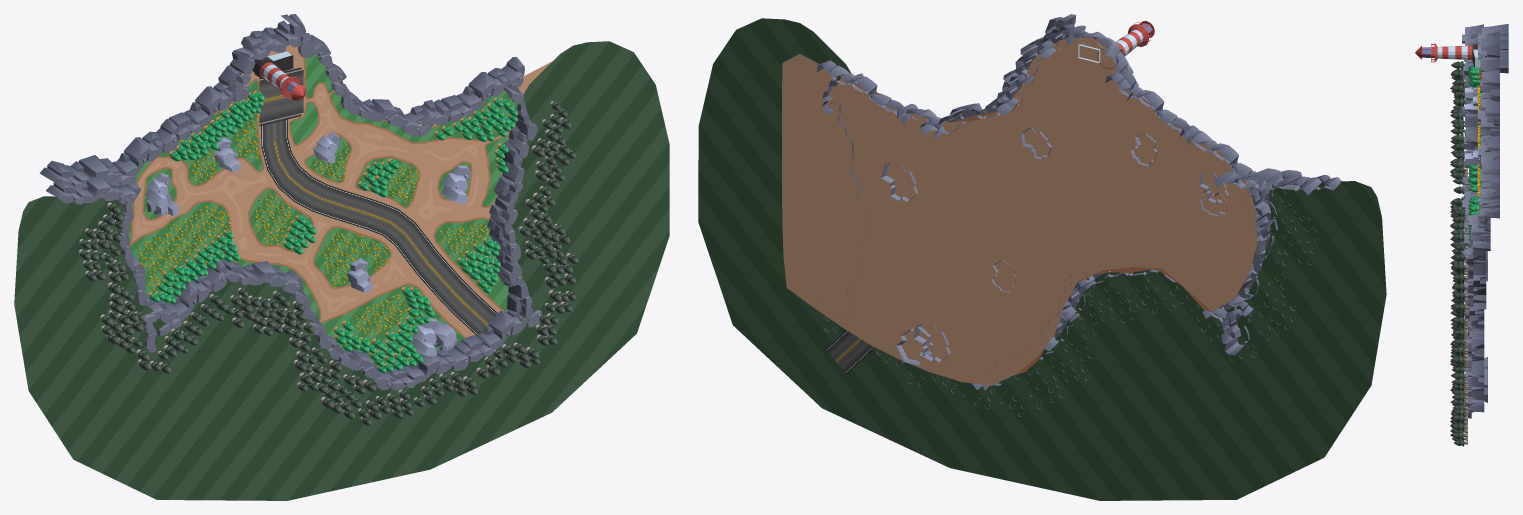
3 renders of one model, left to right at view 1: azimuth 30°, elevation 25°; view 2: azimuth 150°, elevation 25°; view 3: azimuth 270°, elevation 25°, orthographic. The views are drawn at different scales.
Visible parts, largest first — view 1: Back_zone, Rock_walls, Green_zone, Trees_group_2, Ground, Trees_group_1, Road, Pole, Bordur, Rock, Line_center, Parkovka (+1 smaller); view 2: Back_zone, Ground, Rock_walls, Rock, Road, Light_house, Bordur; view 3: Rock_walls, Trees_group_2, Light_house, Rock, Trees_group_1, Pole.
Part boxes in pixels (x1=…): Back_zone: x1=14, y1=41, x2=669, y2=500; Rock_walls: x1=39, y1=14, x2=541, y2=390; Green_zone: x1=128, y1=54, x2=517, y2=366; Trees_group_2: x1=78, y1=101, x2=578, y2=425; Ground: x1=131, y1=44, x2=552, y2=337; Trees_group_1: x1=148, y1=91, x2=518, y2=373; Road: x1=261, y1=119, x2=497, y2=335; Pole: x1=136, y1=114, x2=488, y2=334; Bordur: x1=129, y1=58, x2=509, y2=366; Rock: x1=145, y1=131, x2=471, y2=356; Line_center: x1=135, y1=91, x2=478, y2=312; Parkovka: x1=259, y1=67, x2=303, y2=126; Back_zone: x1=698, y1=18, x2=1386, y2=500; Ground: x1=782, y1=37, x2=1257, y2=385; Rock_walls: x1=816, y1=14, x2=1341, y2=390; Rock: x1=881, y1=127, x2=1228, y2=365; Road: x1=825, y1=330, x2=874, y2=373; Light_house: x1=1078, y1=21, x2=1154, y2=69; Bordur: x1=854, y1=82, x2=1233, y2=375; Rock_walls: x1=1462, y1=24, x2=1508, y2=418; Trees_group_2: x1=1450, y1=61, x2=1467, y2=446; Light_house: x1=1415, y1=43, x2=1480, y2=67; Rock: x1=1464, y1=87, x2=1487, y2=402; Trees_group_1: x1=1468, y1=65, x2=1481, y2=246; Pole: x1=1477, y1=85, x2=1482, y2=196.
Size of what is drawn, in the model's own units: 132 by 90.43 by 19.83.
8 materials, 8 textured.
